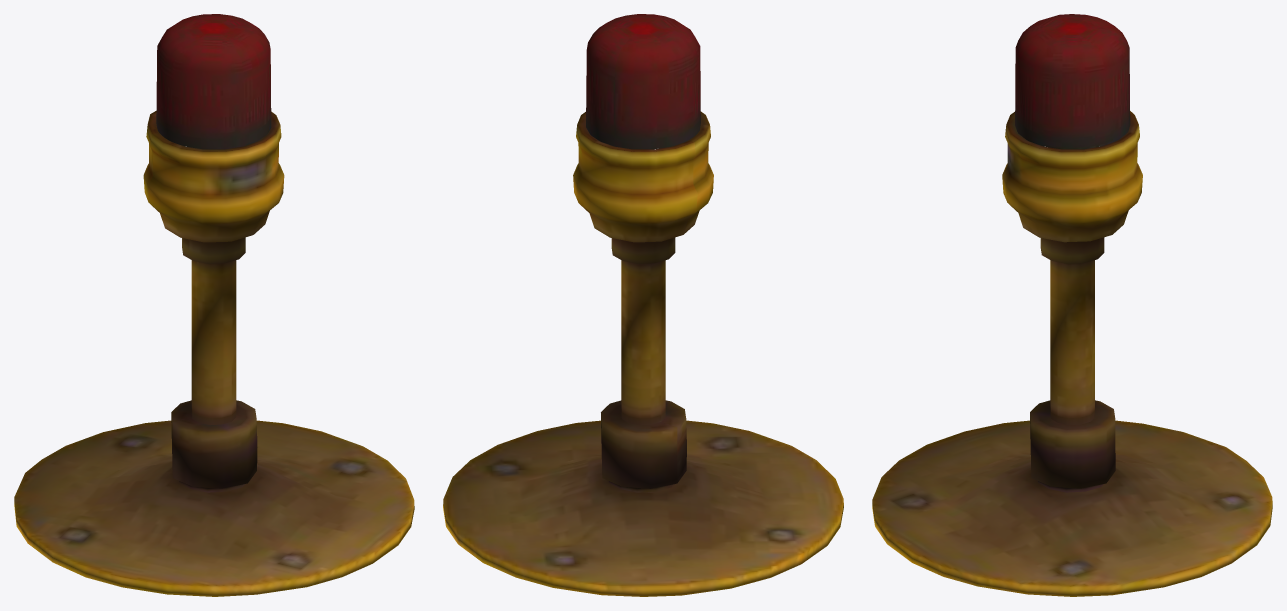
File: sirenlight_upright.glb
The picture shows the model from 3 angles, left to right: view 1: azimuth 30°, elevation 25°; view 2: azimuth 150°, elevation 25°; view 3: azimuth 270°, elevation 25°; orthographic projection.
Parts seen in each view (by area): view 1: SirenLight_LOD0; view 2: SirenLight_LOD0; view 3: SirenLight_LOD0.
Boxes of the visible parts, bbox=[...] form: SirenLight_LOD0: bbox=[14, 14, 414, 596]; SirenLight_LOD0: bbox=[443, 14, 843, 596]; SirenLight_LOD0: bbox=[872, 14, 1272, 596].
Bounding box in the file's own units: 0.1473 × 0.1973 × 0.1476.
1 material, 1 textured.
